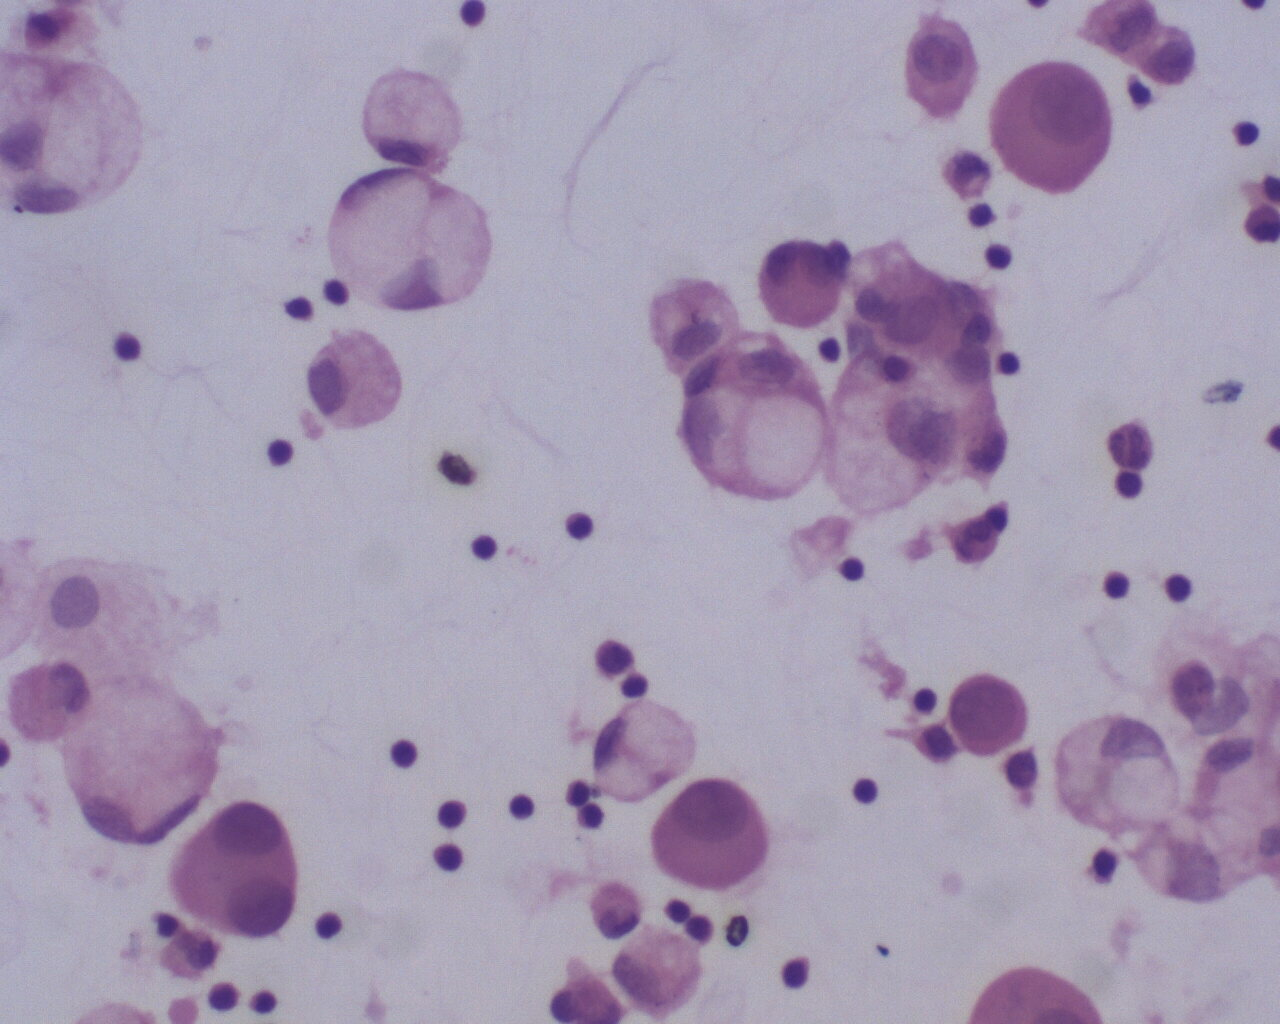ab: (335, 165, 497, 309), (167, 800, 300, 942), (994, 56, 1120, 199), (1052, 711, 1180, 839), (646, 778, 777, 894), (948, 667, 1032, 761)
histo: (60, 672, 222, 848), (587, 699, 698, 811), (364, 69, 471, 172), (305, 331, 408, 437)
lymph: (1096, 565, 1138, 612), (386, 732, 427, 775), (432, 794, 474, 835), (309, 906, 348, 949), (110, 328, 148, 370), (564, 504, 600, 549), (259, 430, 296, 471), (467, 525, 502, 567), (982, 241, 1018, 276), (848, 771, 881, 808), (838, 553, 869, 587)
